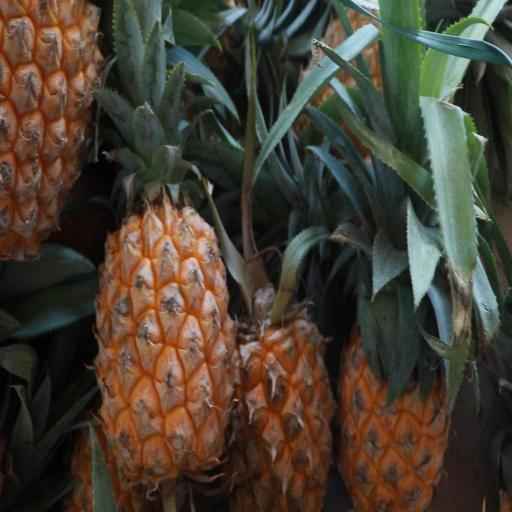Pineapple - v8 v1: (88, 122, 239, 484), (333, 187, 456, 512), (221, 251, 340, 511)
